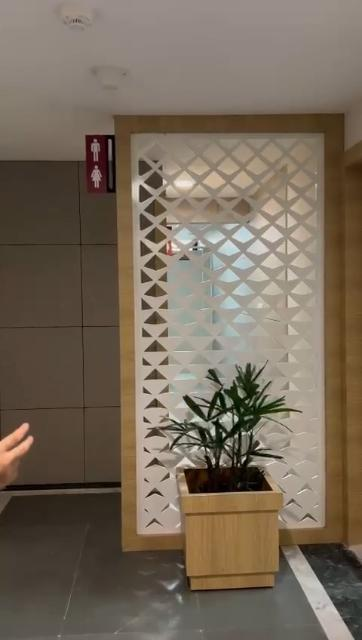floor: (2, 493, 362, 640)
object: (161, 370, 290, 596)
